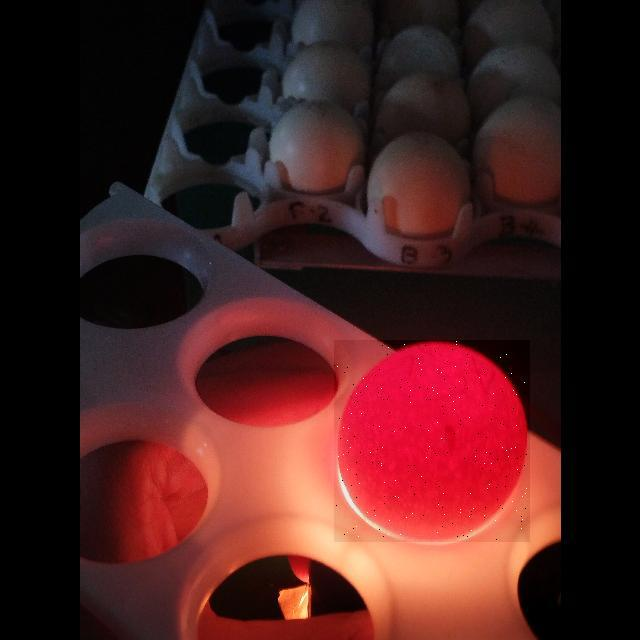Infertile: (334, 340, 530, 542)
